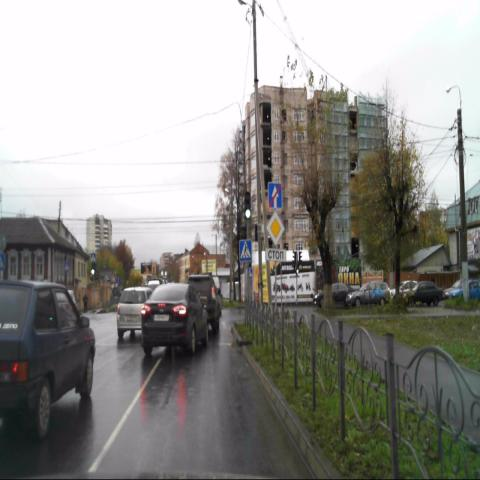6_16: (265, 248, 286, 261)
